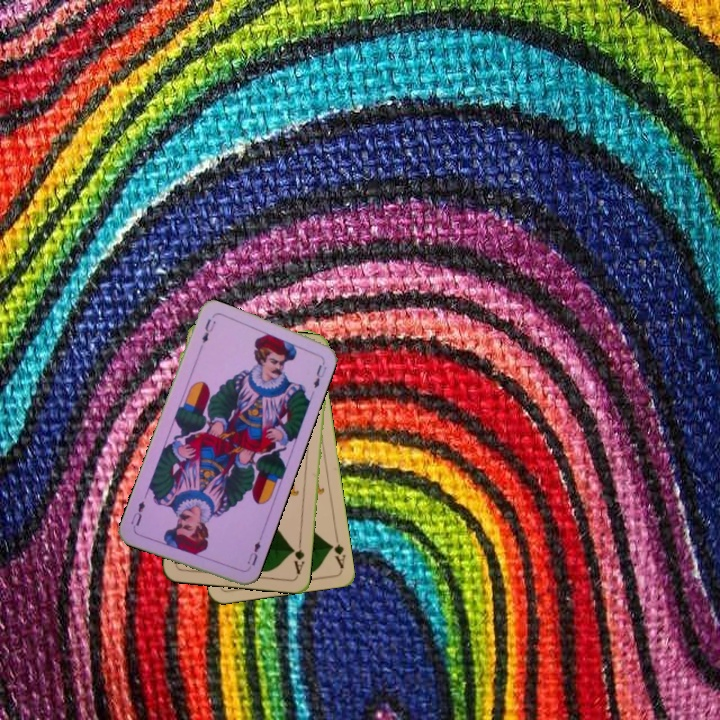EU: (243, 533, 264, 568), (197, 315, 218, 346)
GA: (326, 530, 348, 571), (288, 537, 307, 577)
